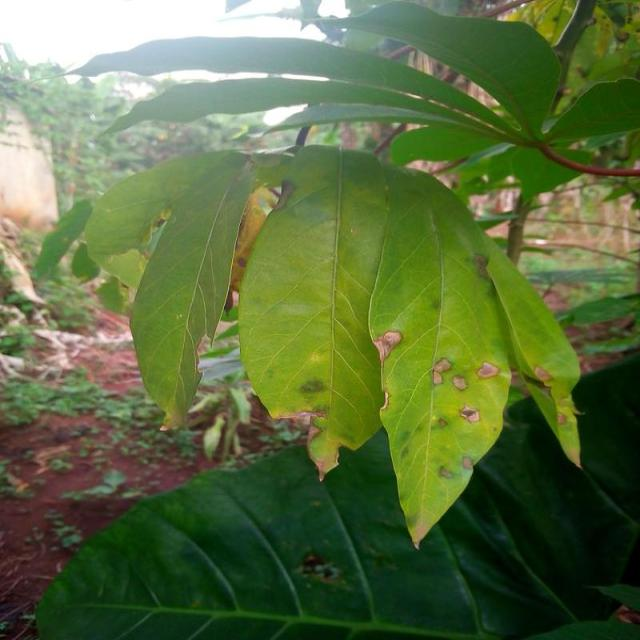cassava leaf: (237, 143, 583, 549), (85, 146, 286, 430), (238, 143, 391, 480)
